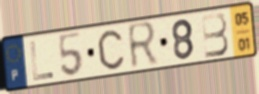5: (56, 30, 86, 79)
8: (171, 18, 197, 62)
B: (200, 11, 231, 60)
C: (96, 28, 126, 72)
L: (28, 40, 56, 83)
R: (125, 19, 160, 72)
